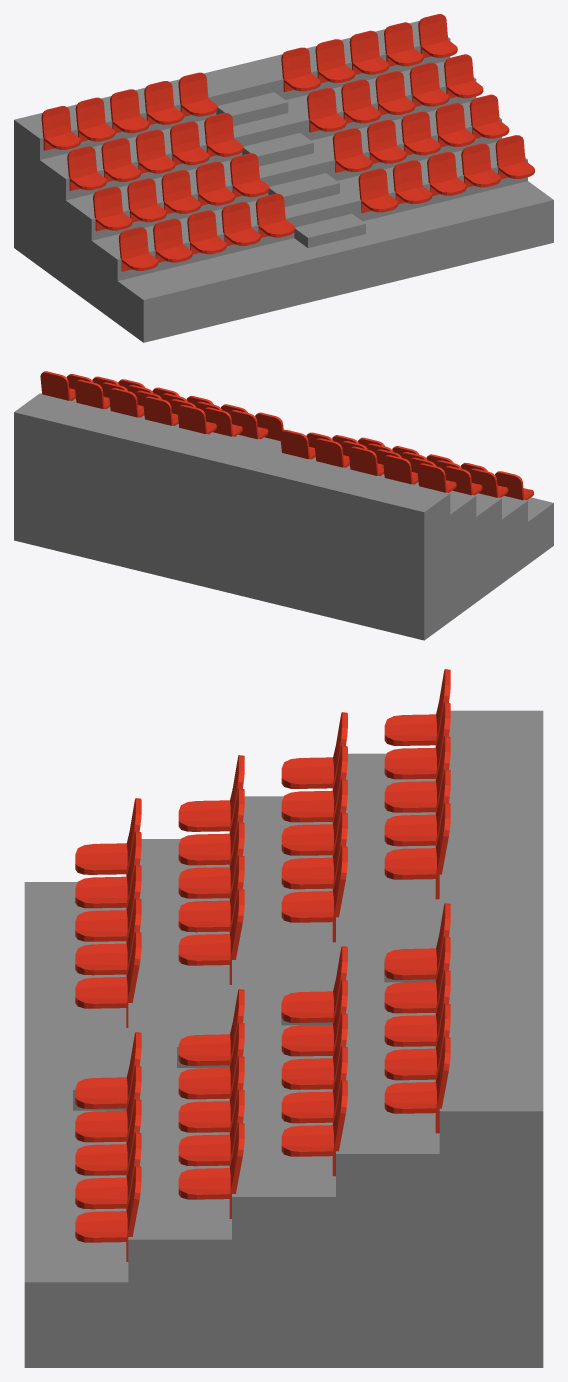
File: TableSoccerTribüne.fbx
The picture shows the model from 3 angles, top to bottom: view 1: azimuth 30°, elevation 25°; view 2: azimuth 150°, elevation 25°; view 3: azimuth 270°, elevation 25°; orthographic projection. The views are drawn at different scales.
Visible parts, largest first — view 1: Cube.004, Sitzplätze.002; view 2: Cube.004, Sitzplätze.002; view 3: Cube.004, Sitzplätze.002.
Boxes of the visible parts, box(x1,y1,x2,y2) form: Cube.004: box(14, 21, 553, 342); Sitzplätze.002: box(41, 14, 534, 271); Cube.004: box(14, 393, 553, 640); Sitzplätze.002: box(40, 371, 533, 500); Cube.004: box(24, 710, 543, 1367); Sitzplätze.002: box(75, 669, 450, 1261).
Bounding box in the file's own units: 315 × 112 × 172.
